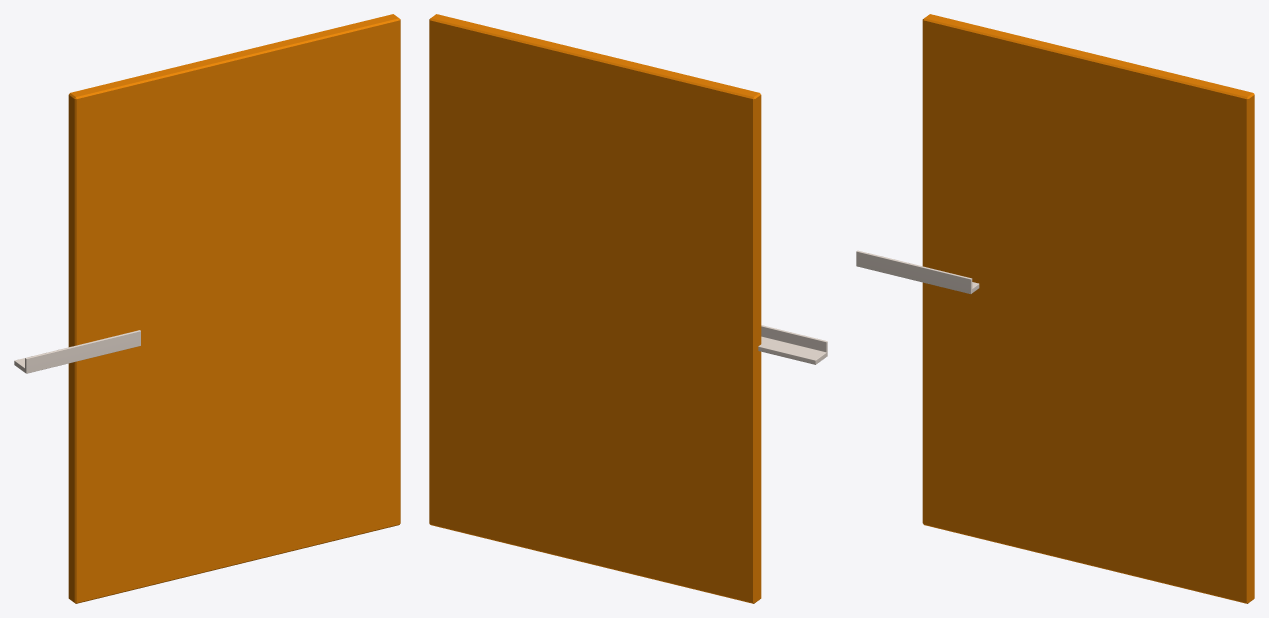
The model's file is Cabinet_24a77fd0.obj.
The picture shows the model from 3 angles, left to right: view 1: azimuth 30°, elevation 25°; view 2: azimuth 150°, elevation 25°; view 3: azimuth 330°, elevation 25°; orthographic projection.
Parts seen in each view (by area): view 1: Mesh_cce62691, handle_3_178mm_01_91aa044c; view 2: Mesh_cce62691, handle_3_178mm_01_91aa044c; view 3: Mesh_cce62691, handle_3_178mm_01_91aa044c.
Part boxes in pixels (bbox=[...]): Mesh_cce62691: bbox=[68, 14, 400, 603]; handle_3_178mm_01_91aa044c: bbox=[14, 330, 140, 373]; Mesh_cce62691: bbox=[429, 14, 761, 603]; handle_3_178mm_01_91aa044c: bbox=[758, 325, 827, 364]; Mesh_cce62691: bbox=[922, 14, 1254, 603]; handle_3_178mm_01_91aa044c: bbox=[856, 250, 979, 293].
Bounding box in the file's own units: 0.594 × 0.75 × 0.0426.
